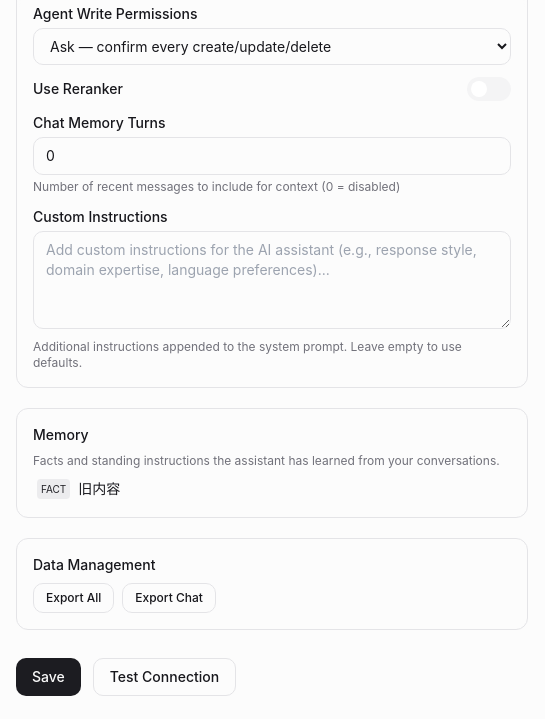
Test case: Settings memory section › inline edit PUTs the new content
This screenshot has width=545, height=719.
(page scrolled)
Check: the list item with test id "memory-item-3" is shown, box [33, 477, 511, 501]
Click the button "旧内容" at (99, 488), box [78, 479, 507, 499]
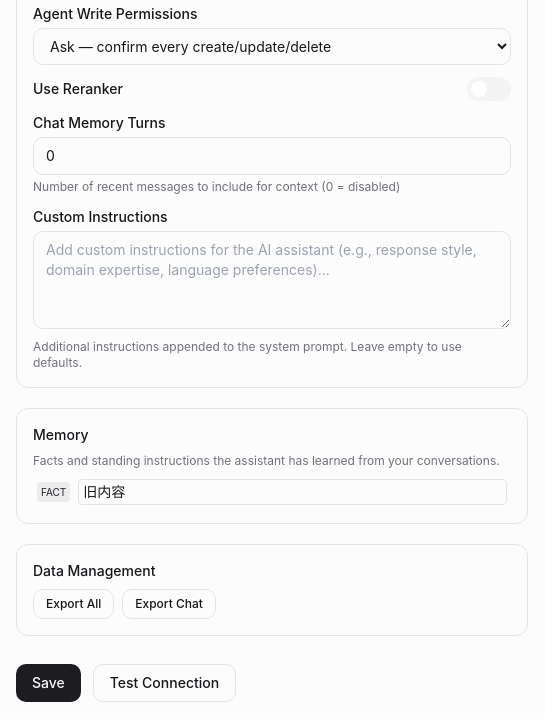
Replace the text in the field with test id "memory-edit-input-3" with "新内容" at (293, 492), box [78, 479, 507, 505]
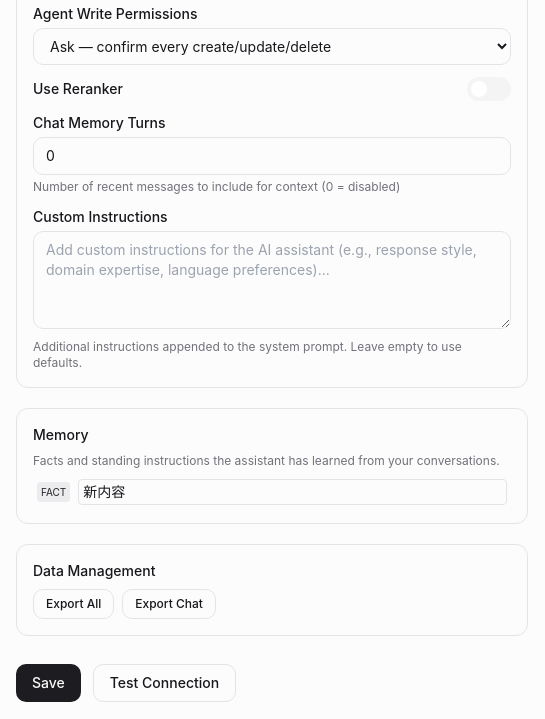
Press Enter in the field with test id "memory-edit-input-3", box [78, 479, 507, 505]
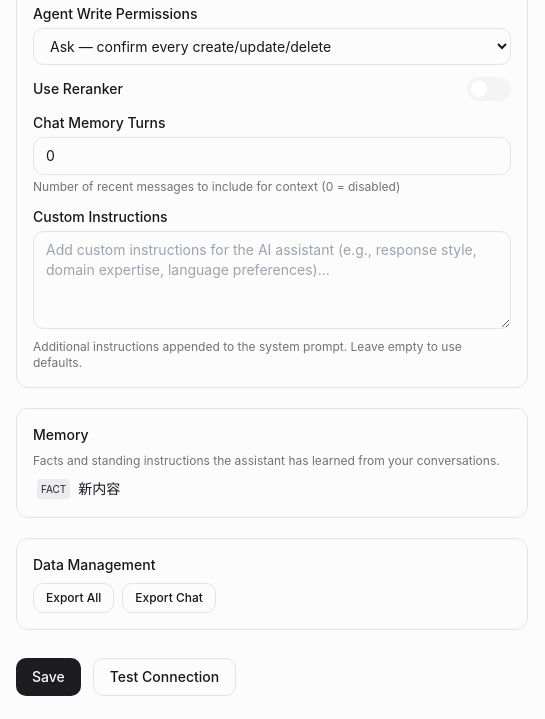
Check: the button "新内容" is shown, box [78, 479, 507, 499]
